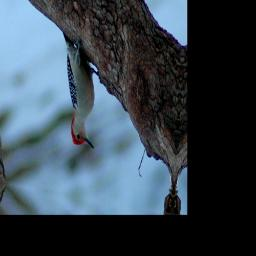Woodpecker: (54, 30, 103, 151)
